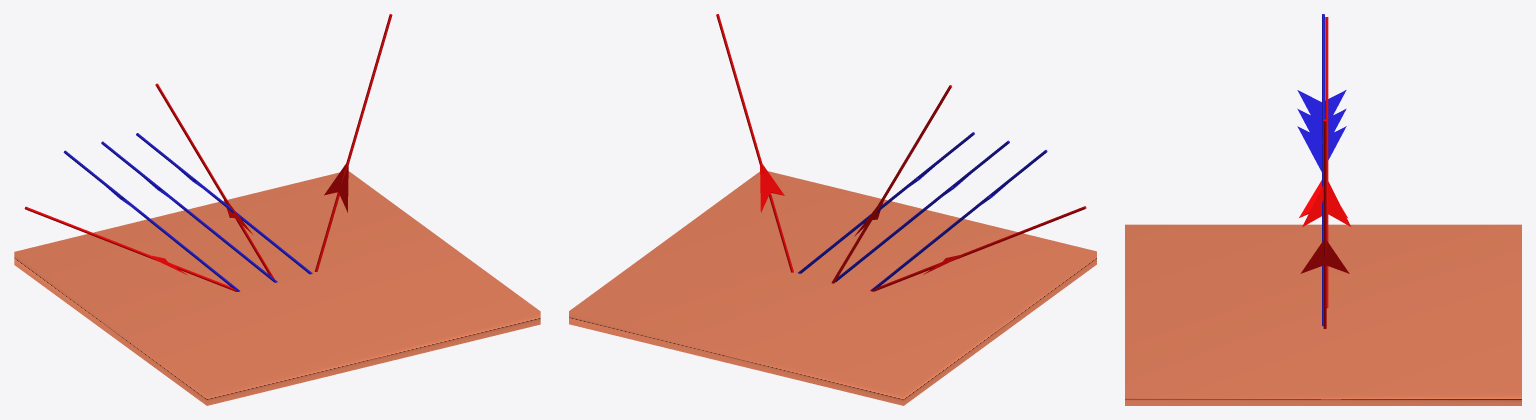
File: Roughsurface.gltf
3 views of the same model, side by side, from view 1: azimuth 30°, elevation 25°; view 2: azimuth 150°, elevation 25°; view 3: azimuth 270°, elevation 25° (orthographic). The views are drawn at different scales.
Parts seen in each view (by area): view 1: Cube.001, Cube.003, Cube, Cube.004, Cube.002; view 2: Cube.001, Cube.003, Cube, Cube.004, Cube.002; view 3: Cube.001, Cube.003, Cube.004, Cube.
Part boxes in pixels (left/top/right/bottom): Cube.001: left=14, top=171, right=540, bottom=405; Cube.003: left=63, top=133, right=312, bottom=291; Cube: left=314, top=14, right=392, bottom=271; Cube.004: left=155, top=83, right=274, bottom=278; Cube.002: left=24, top=206, right=237, bottom=291; Cube.001: left=569, top=171, right=1096, bottom=405; Cube.003: left=798, top=132, right=1047, bottom=290; Cube: left=716, top=14, right=793, bottom=272; Cube.004: left=831, top=85, right=951, bottom=283; Cube.002: left=870, top=206, right=1086, bottom=291; Cube.001: left=1125, top=224, right=1521, bottom=405; Cube.003: left=1297, top=14, right=1346, bottom=326; Cube.004: left=1302, top=17, right=1350, bottom=308; Cube: left=1300, top=119, right=1349, bottom=328.
Bounding box in the file's own units: 20.1 × 11.55 × 16.
